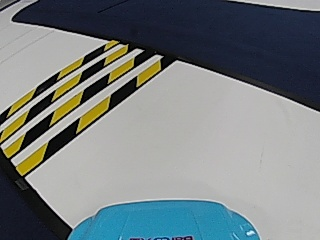bump: (8, 51, 130, 147)
